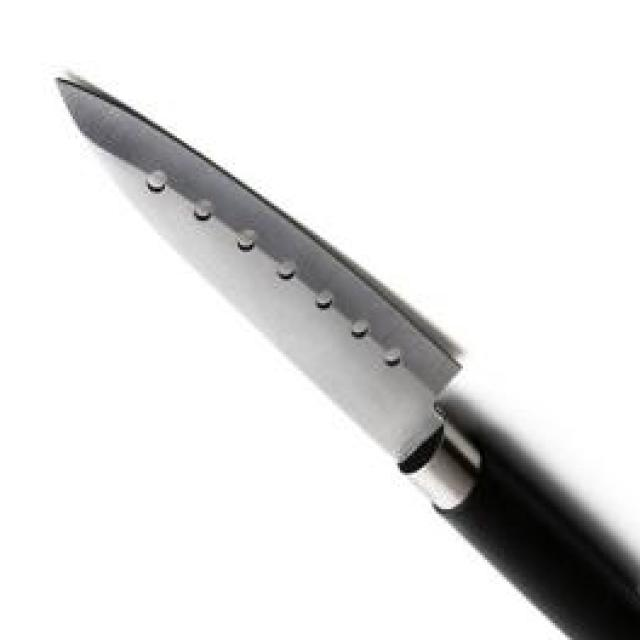knife: (56, 73, 640, 640)
